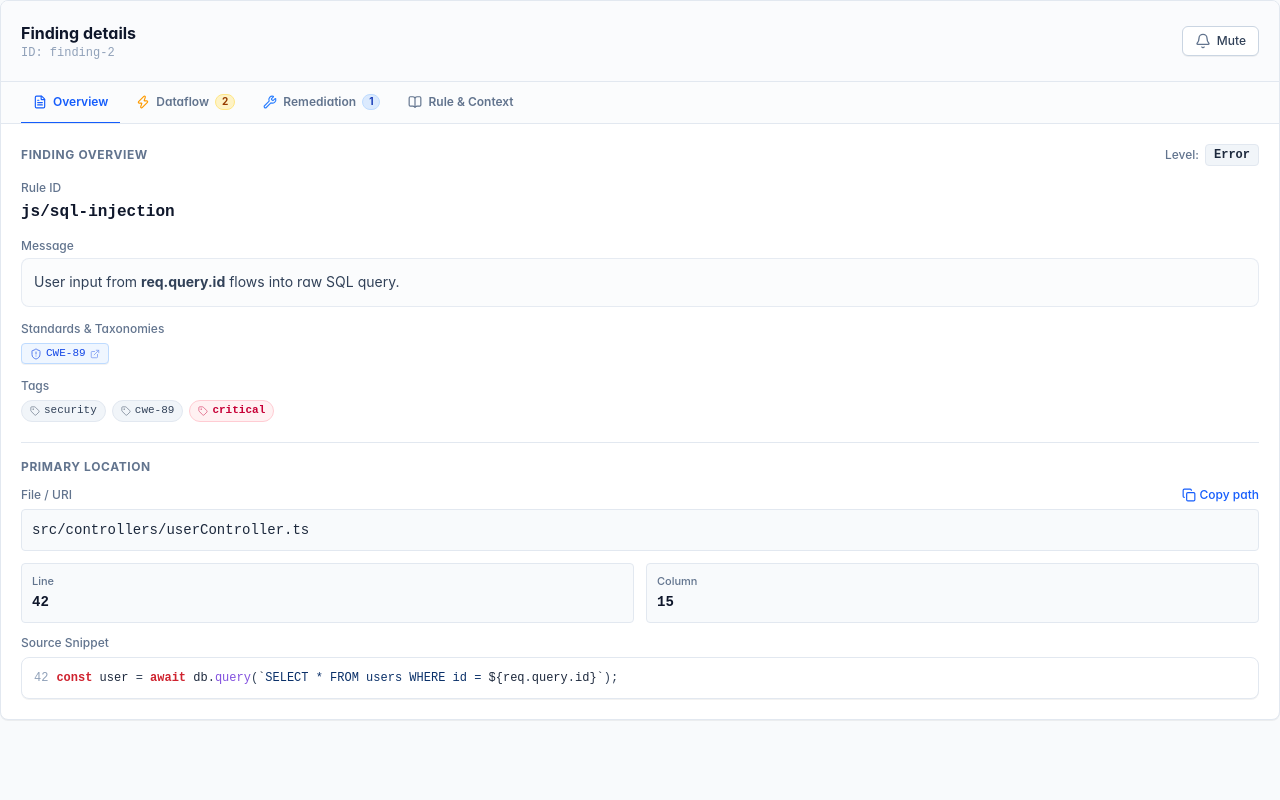
DetailsPanel Component › switches to Dataflow tab and renders stepper on click
Click the button "Dataflow 2" at (186, 103), box [124, 82, 247, 124]
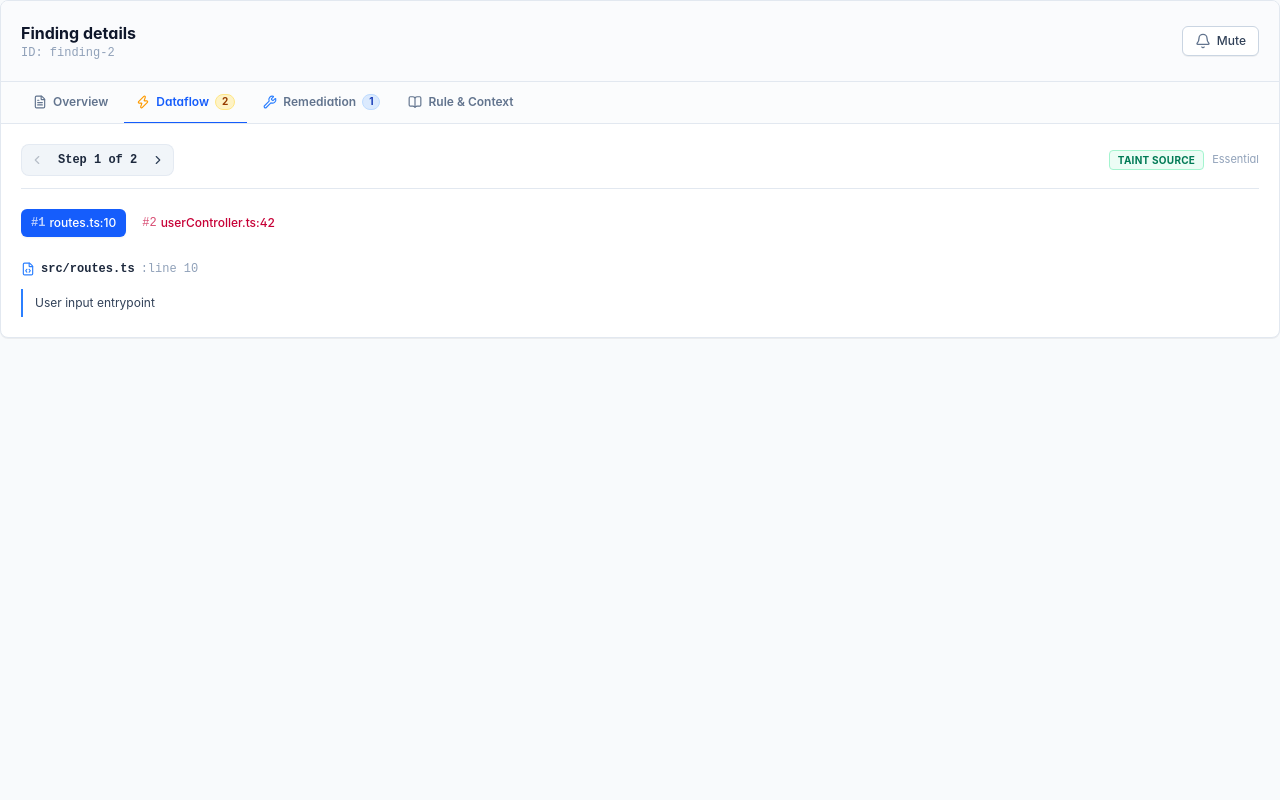
Check: the text "Step 1 of 2" is shown, box [58, 153, 137, 167]
Check: the text "Taint Source" is shown, box [1109, 150, 1204, 170]
Check: the text "User input entrypoint" is shown, box [21, 289, 1259, 316]
